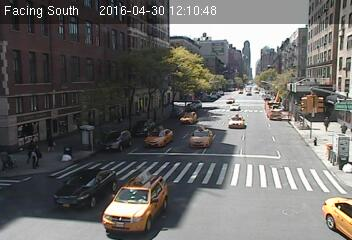neg: (67, 137, 100, 181), (172, 41, 198, 76), (188, 48, 213, 80), (93, 76, 114, 105), (247, 40, 267, 67), (278, 24, 298, 51), (224, 41, 244, 67), (122, 68, 141, 92), (300, 27, 318, 51), (150, 56, 167, 78)
pos: (2, 153, 16, 172), (25, 150, 39, 168), (43, 132, 55, 149), (322, 115, 334, 130), (339, 121, 350, 137)
